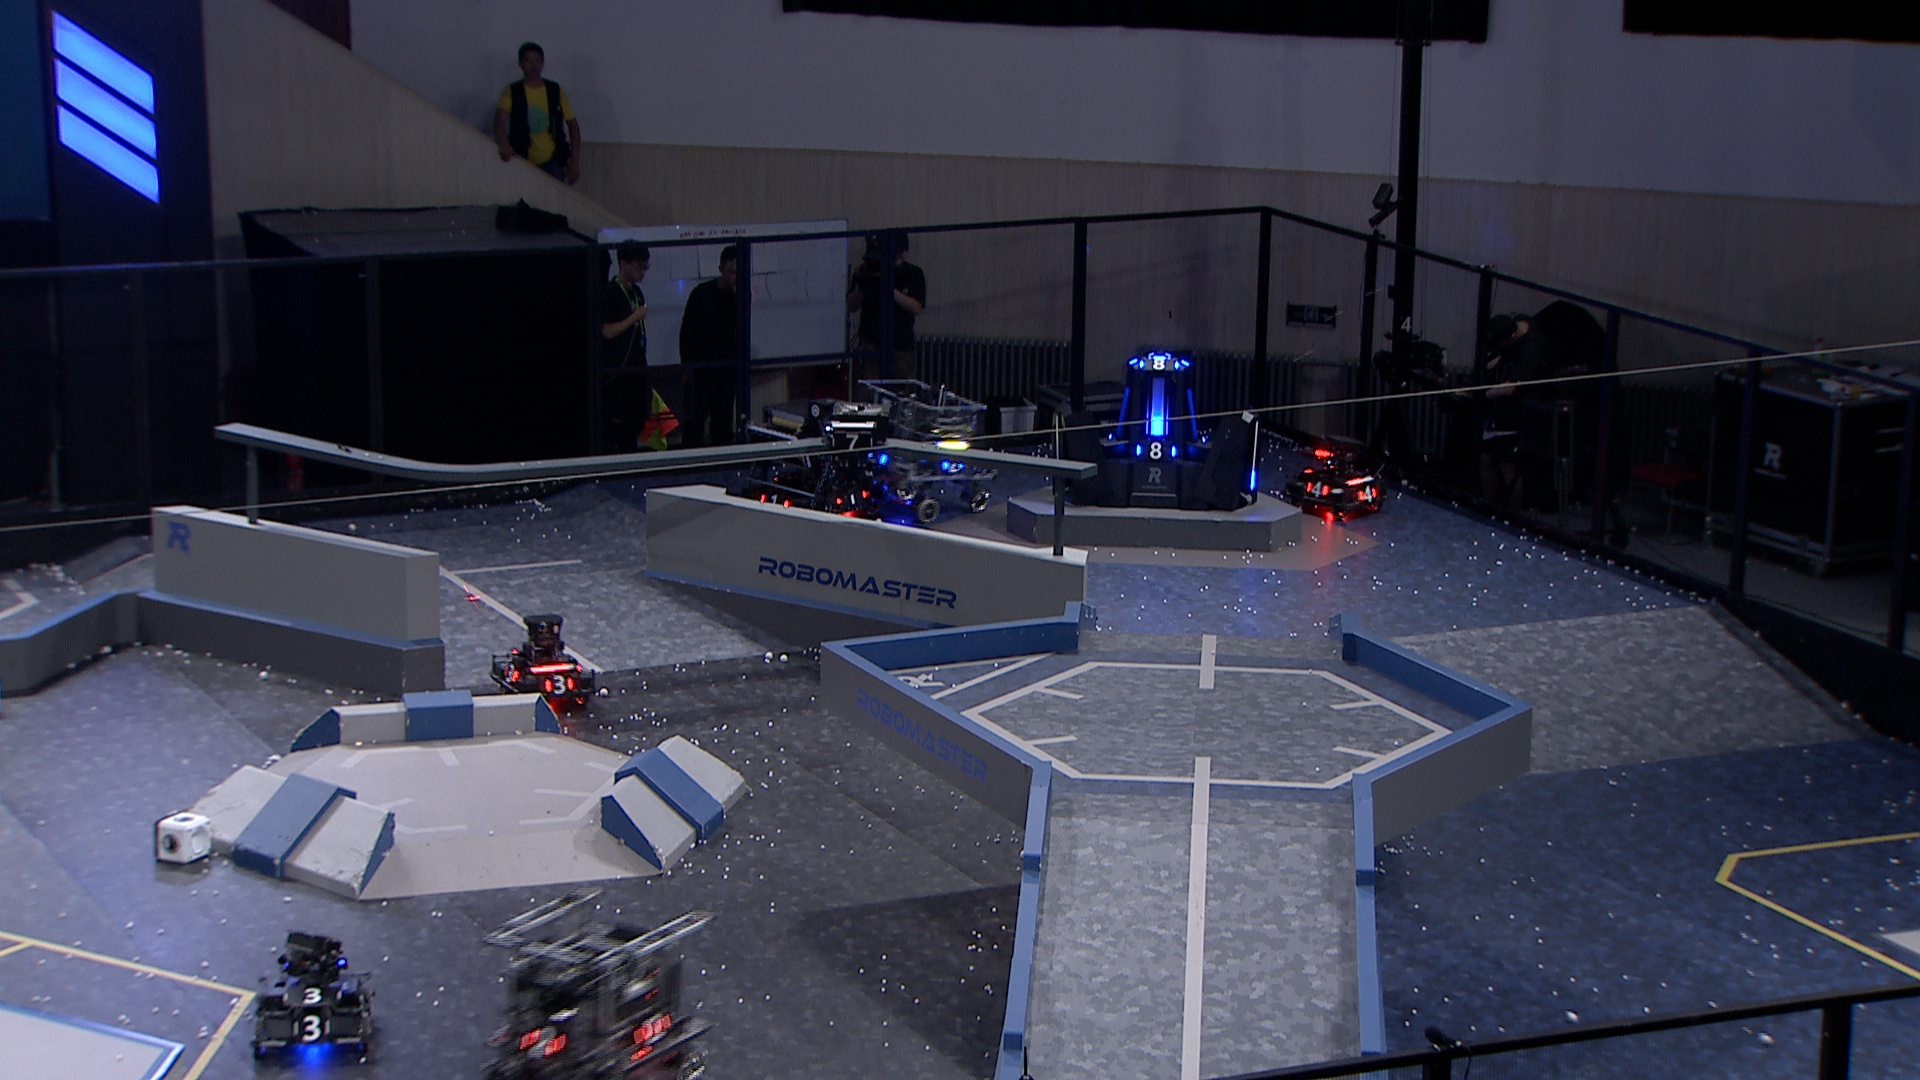armor: (518, 1026, 567, 1058), (636, 1007, 676, 1043), (282, 982, 344, 1005), (290, 1011, 334, 1043), (1112, 384, 1133, 438), (1131, 438, 1178, 462), (829, 433, 874, 455), (1135, 353, 1182, 373), (1187, 386, 1203, 442), (831, 488, 869, 509), (541, 673, 576, 695), (757, 491, 790, 512), (353, 992, 375, 1021), (1147, 413, 1168, 436), (500, 662, 520, 687), (1245, 465, 1261, 495), (1356, 484, 1378, 504), (1304, 481, 1329, 498), (940, 458, 967, 473)
base: (1050, 349, 1265, 513)
car: (476, 880, 717, 1080), (861, 377, 1005, 526), (727, 394, 882, 527), (248, 931, 380, 1067), (485, 612, 603, 712), (1284, 436, 1385, 522)
watcher: (823, 392, 887, 487)
